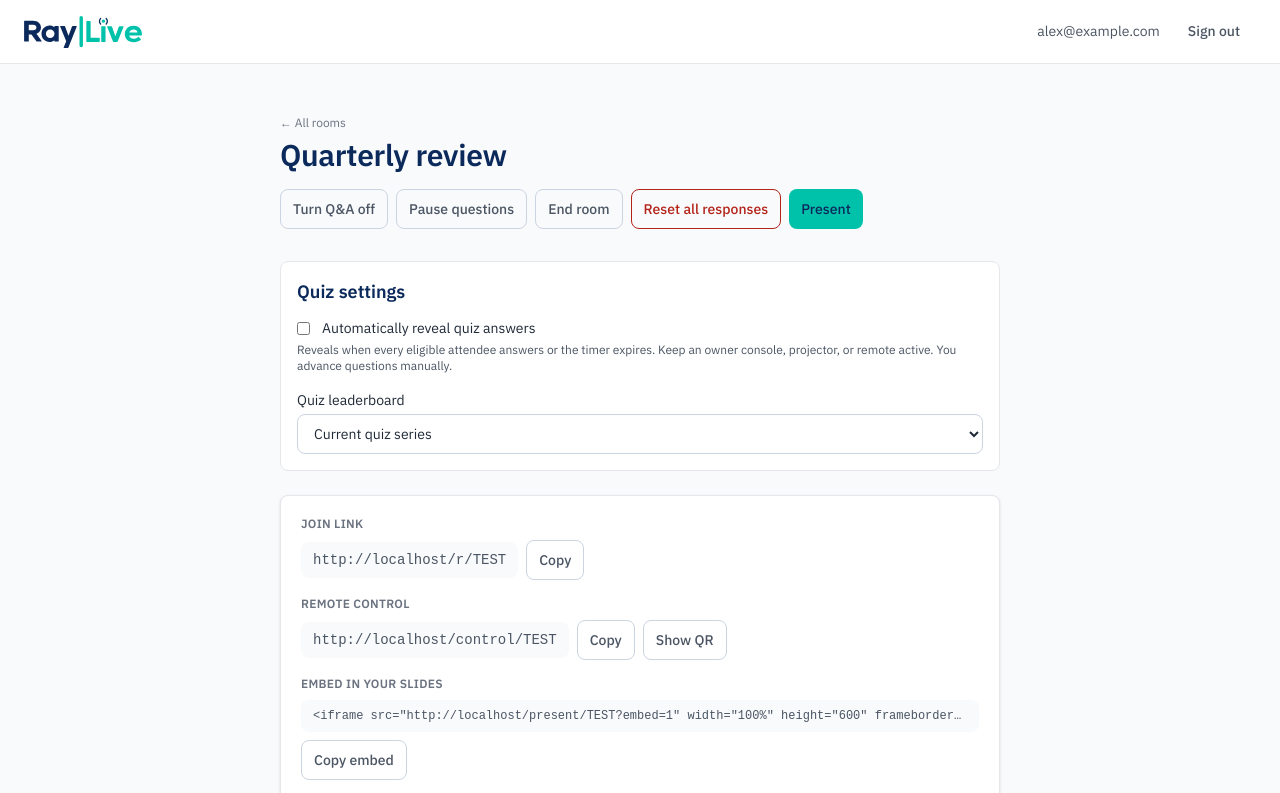
Test case: management shell › requires confirmation for a room-wide reset and refreshes after success
Click the button "Reset all responses": [706, 209] box [630,189,781,229]
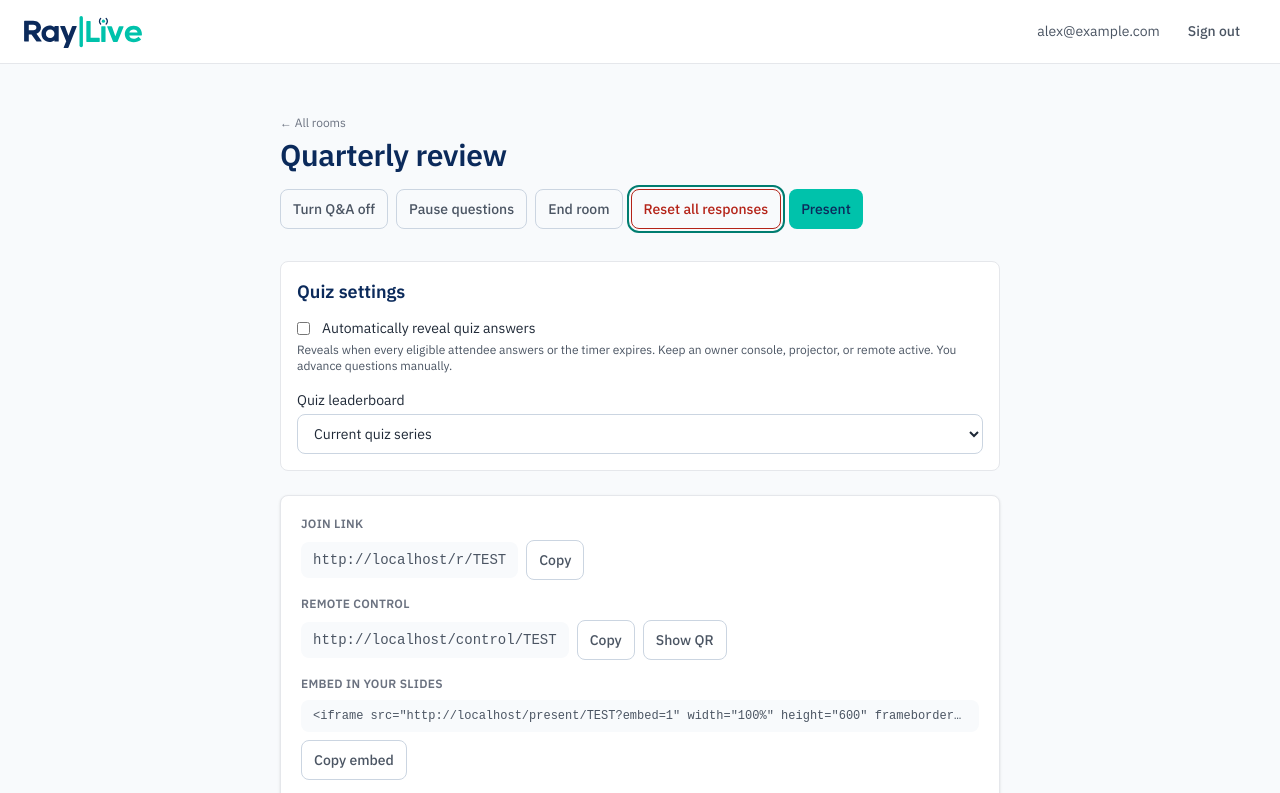
Click the button "Reset all responses": [706, 209] box [630,189,781,229]
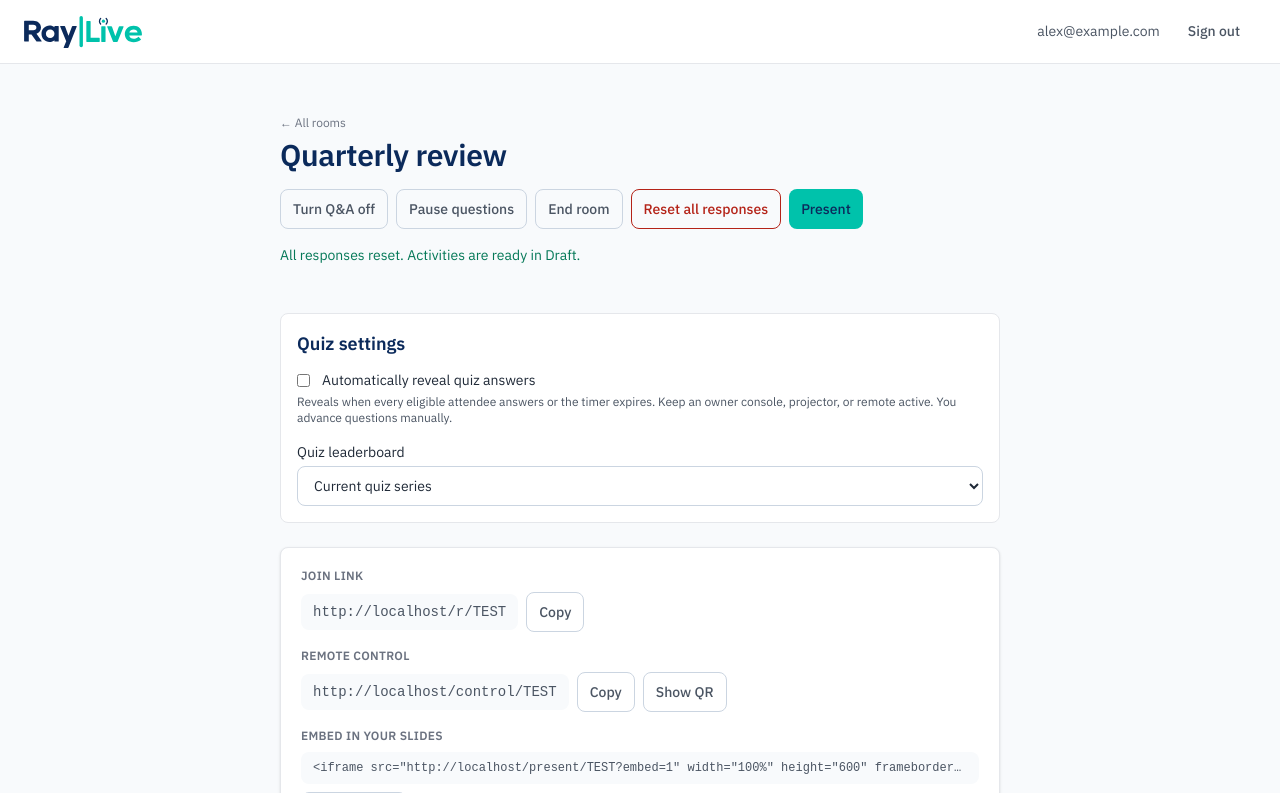
Check: the message shows "All responses reset", box [280,246,580,264]
